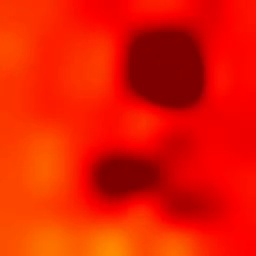person: (95, 136, 213, 215)
